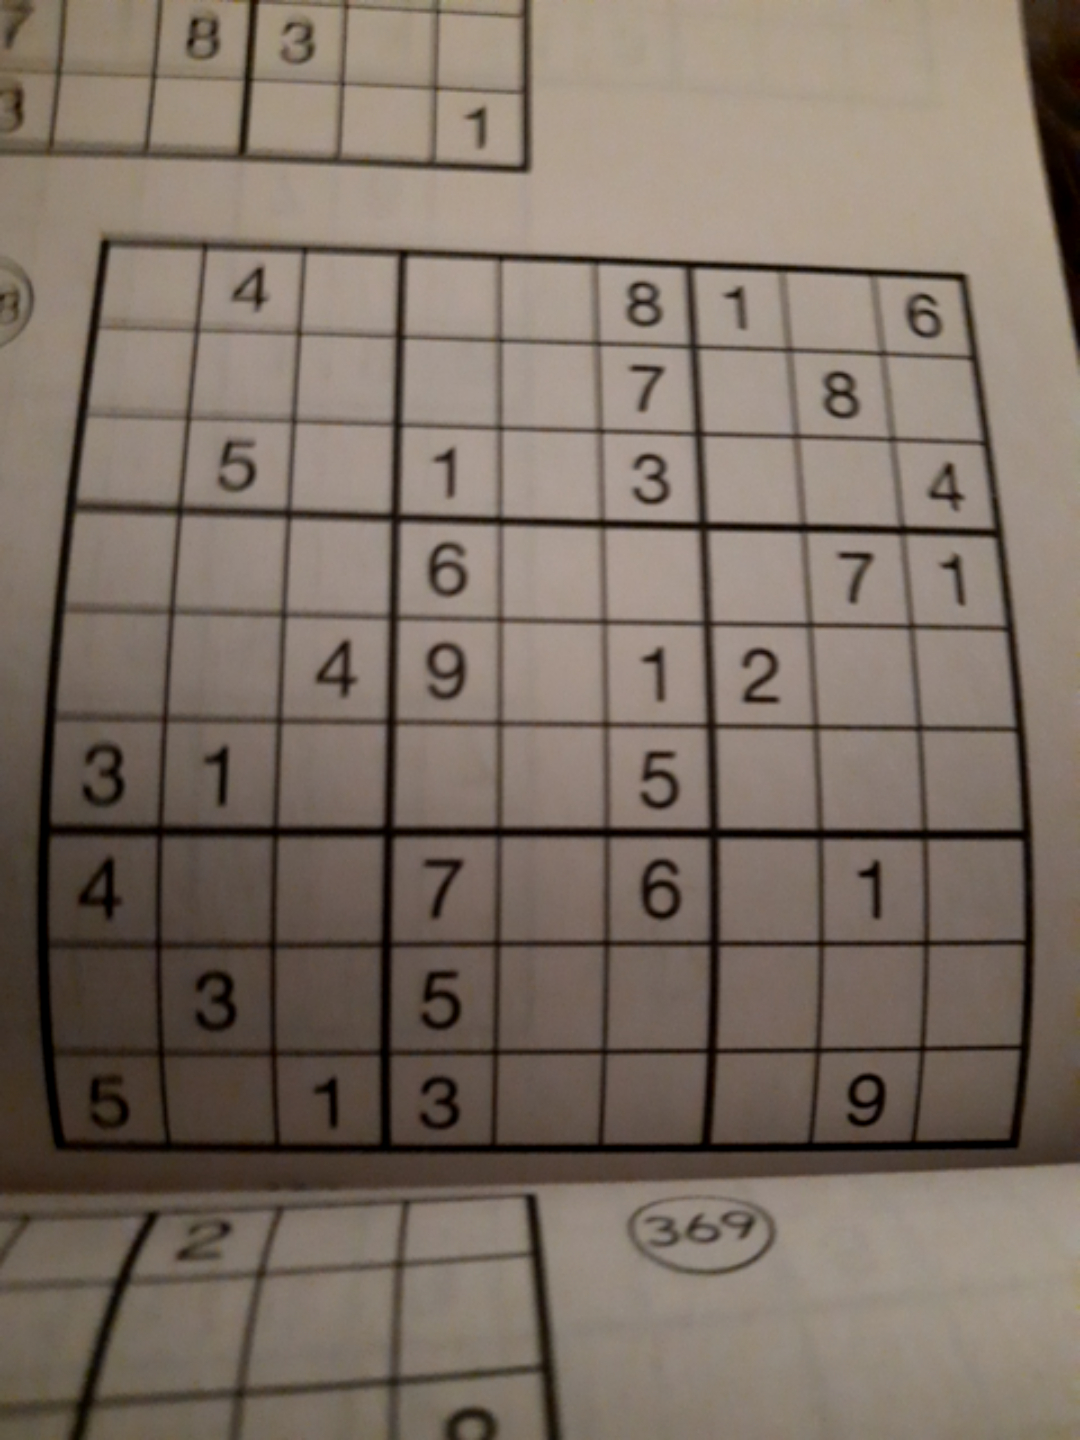sudoku: (43, 233, 1039, 1155)
